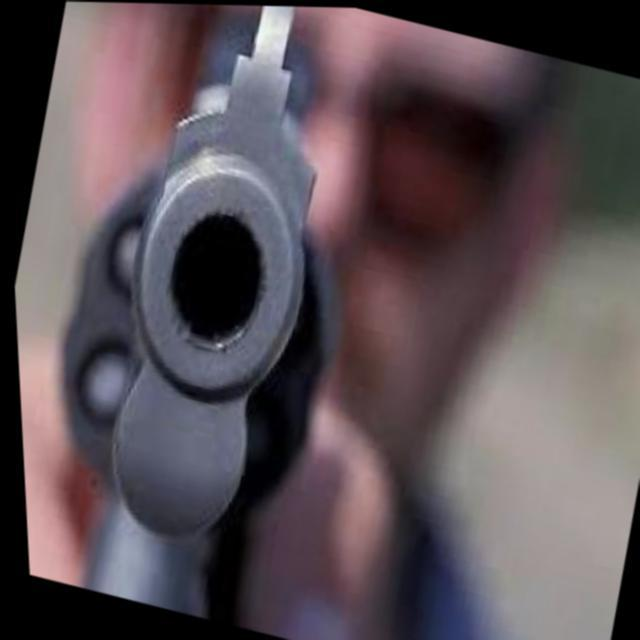weapon: (0, 0, 414, 638)
